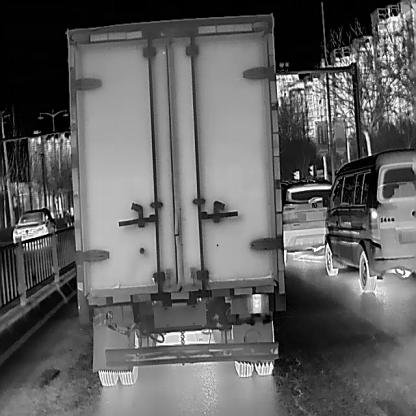car: (322, 146, 416, 292), (282, 178, 330, 262), (12, 207, 54, 250)
truck: (65, 10, 282, 384)
